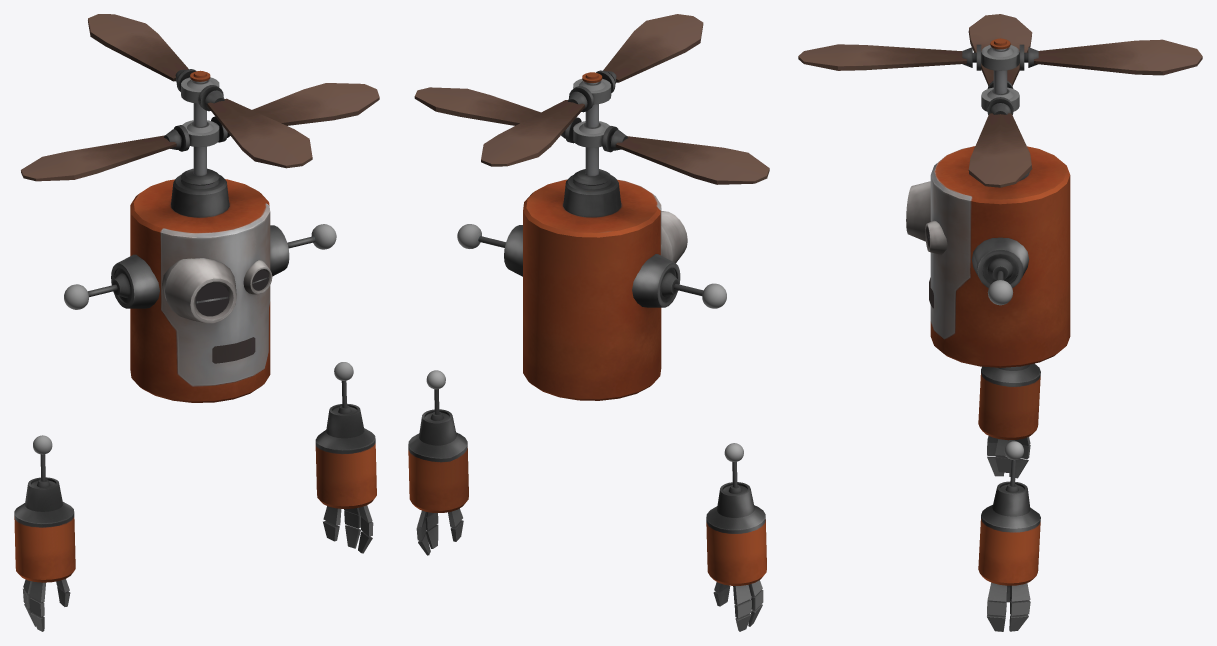
Rendered from RobotHead_PropellerHead_01.obj.
The picture shows the model from 3 angles, left to right: view 1: azimuth 30°, elevation 25°; view 2: azimuth 150°, elevation 25°; view 3: azimuth 270°, elevation 25°; orthographic projection.
Visible parts, largest first — view 1: Head, ArmLeft, ArmRight; view 2: Head, ArmRight, ArmLeft; view 3: Head, ArmLeft, ArmRight.
Part boxes in pixels (bbox=[...]): Head: bbox=[21, 14, 379, 402]; ArmLeft: bbox=[315, 362, 376, 553]; ArmRight: bbox=[14, 435, 75, 631]; Head: bbox=[414, 14, 769, 400]; ArmRight: bbox=[706, 443, 766, 631]; ArmLeft: bbox=[408, 370, 468, 555]; Head: bbox=[798, 14, 1202, 367]; ArmLeft: bbox=[978, 441, 1040, 631]; ArmRight: bbox=[978, 363, 1040, 478].
Size of the model in its own units: 0.584 by 0.8179 by 0.5839.
Materials: 3 (3 with a texture image).
